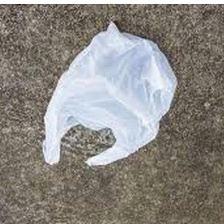plastic_bag: (37, 17, 190, 175)
